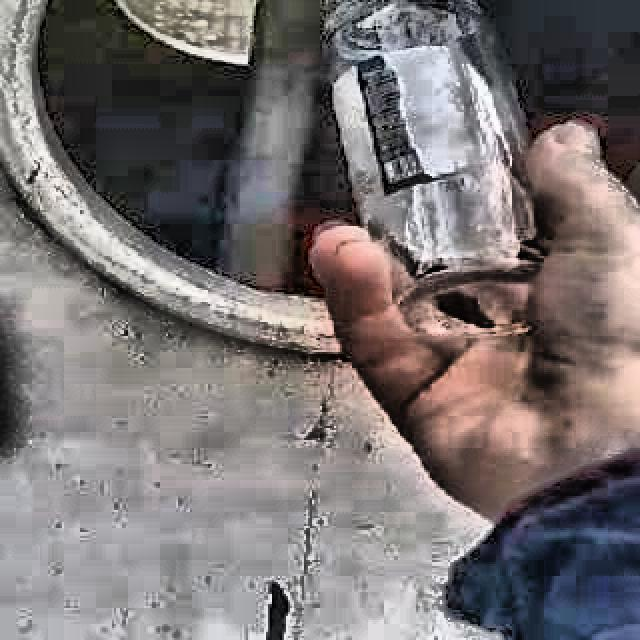glass: (325, 0, 539, 335)
